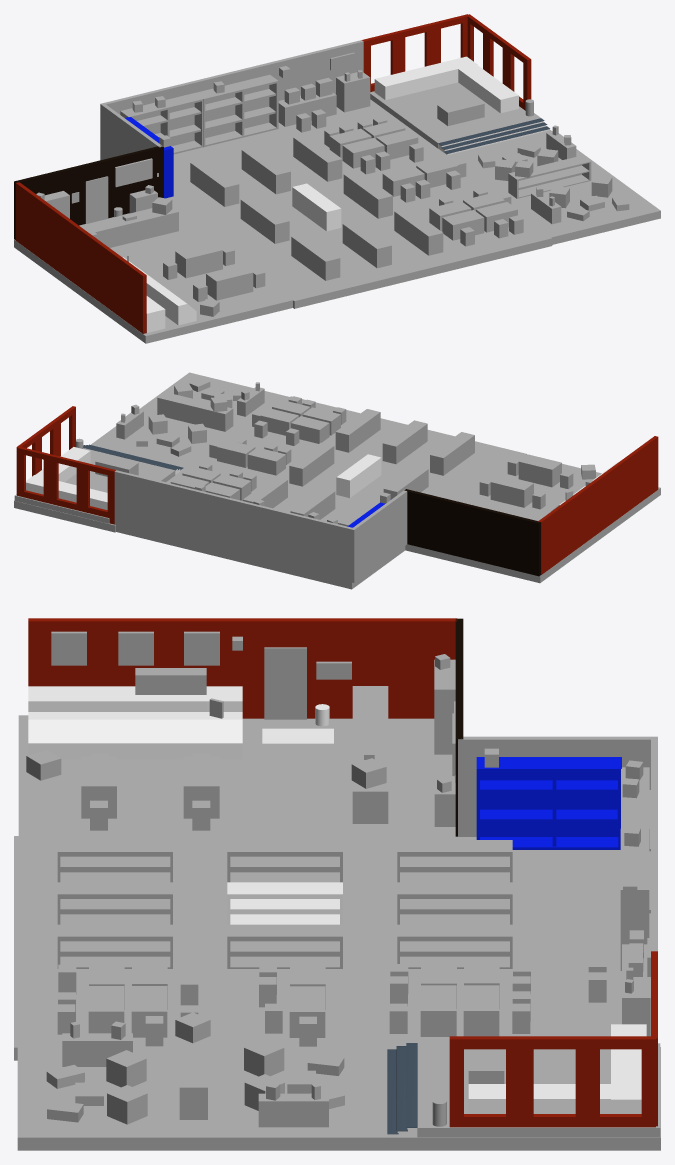
File: Level_Design_WoodenCroaks.fbx
3 renders of one model, top to bottom at view 1: azimuth 30°, elevation 25°; view 2: azimuth 150°, elevation 25°; view 3: azimuth 270°, elevation 25°, orthographic. The views are drawn at different scales.
Parts seen in each view (by area): view 1: Floor, Floor_67, StaticMeshActor_35, Floor_14, Floor_239, StaticMeshActor_43, StaticMeshActor_69, StaticMeshActor_10, StaticMeshActor_23, Floor_0, StaticMeshActor_66, StaticMeshActor_223 (+40 smaller); view 2: StaticMeshActor_43, Floor, StaticMeshActor_39, StaticMeshActor_35, Floor_239, Floor_14, Floor_67, StaticMeshActor_41, StaticMeshActor_223, StaticMeshActor_295, Floor_0, StaticMeshActor_23 (+29 smaller); view 3: Floor, Floor_67, Floor_14, Floor_239, StaticMeshActor_35, StaticMeshActor_64, StaticMeshActor_1, StaticMeshActor_31, Floor_0, StaticMeshActor_41, StaticMeshActor_23, StaticMeshActor_99 (+49 smaller).
Boxes of the visible parts, box(x1,y1,x2,y2) form: Floor: box(166, 105, 495, 308); Floor_67: box(224, 106, 552, 308); StaticMeshActor_35: box(15, 182, 146, 333); Floor_14: box(14, 213, 292, 343); Floor_239: box(370, 99, 660, 244); StaticMeshActor_43: box(104, 40, 363, 114); StaticMeshActor_69: box(195, 74, 278, 147); StaticMeshActor_10: box(20, 147, 163, 225); StaticMeshActor_23: box(374, 56, 518, 113); Floor_0: box(370, 82, 540, 148); StaticMeshActor_66: box(120, 93, 203, 154); StaticMeshActor_223: box(362, 14, 469, 91); StaticMeshActor_43: box(114, 470, 352, 581); Floor: box(116, 396, 527, 589); StaticMeshActor_39: box(404, 490, 540, 576); StaticMeshActor_35: box(538, 436, 658, 574); Floor_239: box(14, 372, 289, 532); Floor_14: box(405, 455, 660, 583); Floor_67: box(210, 404, 519, 521); StaticMeshActor_41: box(350, 490, 407, 582); StaticMeshActor_223: box(17, 447, 115, 524); StaticMeshActor_295: box(157, 392, 233, 431); Floor_0: box(14, 448, 175, 523); StaticMeshActor_23: box(26, 447, 107, 509); Floor: box(14, 836, 650, 1047); Floor_67: box(14, 836, 620, 1060); Floor_14: box(18, 715, 455, 836); Floor_239: box(17, 1047, 660, 1150); StaticMeshActor_35: box(28, 618, 457, 718); StaticMeshActor_64: box(476, 757, 621, 849); StaticMeshActor_1: box(449, 1036, 655, 1127); StaticMeshActor_31: box(28, 712, 242, 759); Floor_0: box(417, 1043, 660, 1137); StaticMeshActor_41: box(458, 736, 657, 836); StaticMeshActor_23: box(468, 1024, 646, 1113); StaticMeshActor_99: box(227, 882, 342, 924).
Size of what is drawn, in the model's own units: 2796 by 1810 by 340.
